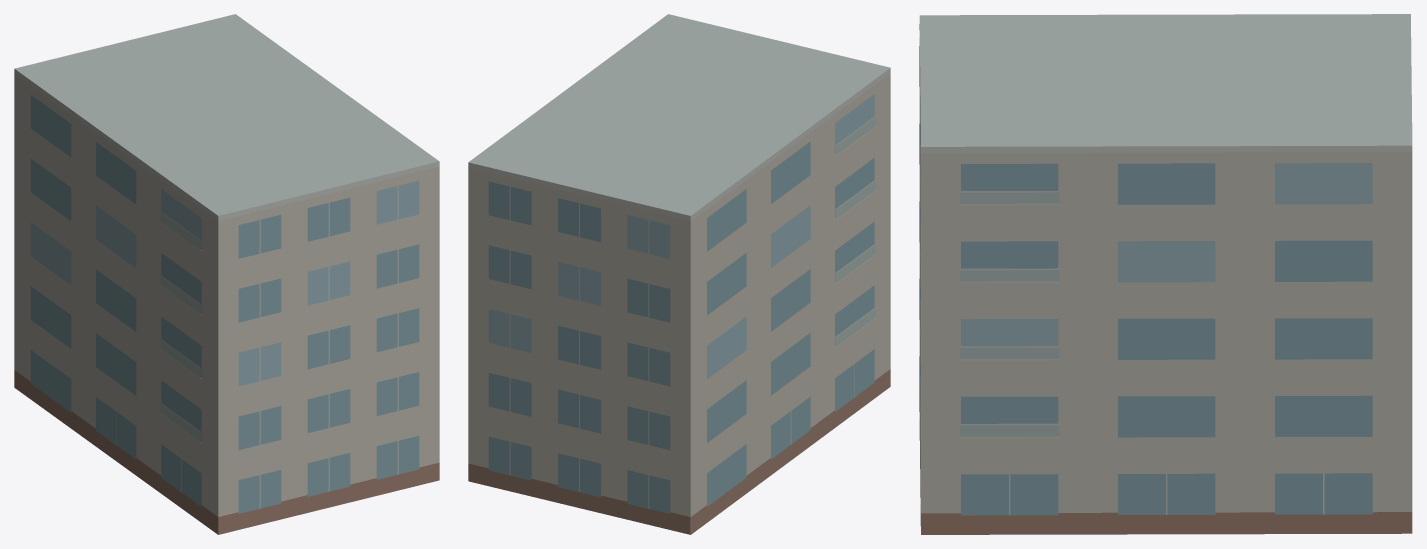
The model's file is survey-upis-32626537.glb.
3 renders of one model, left to right at view 1: azimuth 30°, elevation 25°; view 2: azimuth 150°, elevation 25°; view 3: azimuth 270°, elevation 25°, orthographic. The views are drawn at different scales.
Visible parts, largest first — view 1: survey-upis-32626537.tmp; view 2: survey-upis-32626537.tmp; view 3: survey-upis-32626537.tmp.
Part boxes in pixels (x1,y1,x2,y2): survey-upis-32626537.tmp: (14,14,439,534); survey-upis-32626537.tmp: (468,14,890,534); survey-upis-32626537.tmp: (919,14,1412,534).
Bounding box in the file's own units: 11.02 × 14.95 × 17.22.
